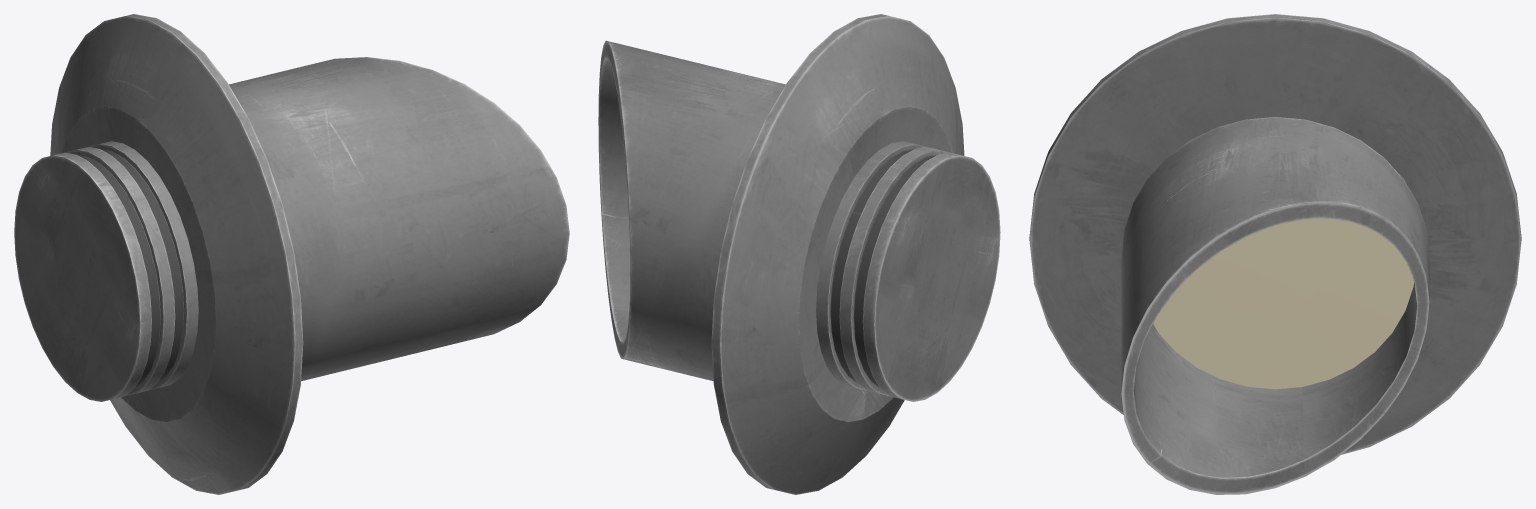
Rendered from guard_7_c_a.glb.
3 views of the same model, side by side, from view 1: azimuth 30°, elevation 25°; view 2: azimuth 150°, elevation 25°; view 3: azimuth 270°, elevation 25° (orthographic).
Visible parts, largest first — view 1: guard_7_c_a_lod0; view 2: guard_7_c_a_lod0; view 3: guard_7_c_a_lod0.
Boxes of the visible parts, <box> form: guard_7_c_a_lod0: <box>14,14,569,494</box>; guard_7_c_a_lod0: <box>598,14,1000,494</box>; guard_7_c_a_lod0: <box>1029,14,1521,494</box>.
Size of what is drawn, in the model's own units: 0.0476 by 0.0485 by 0.0485.
1 material, 1 textured.
